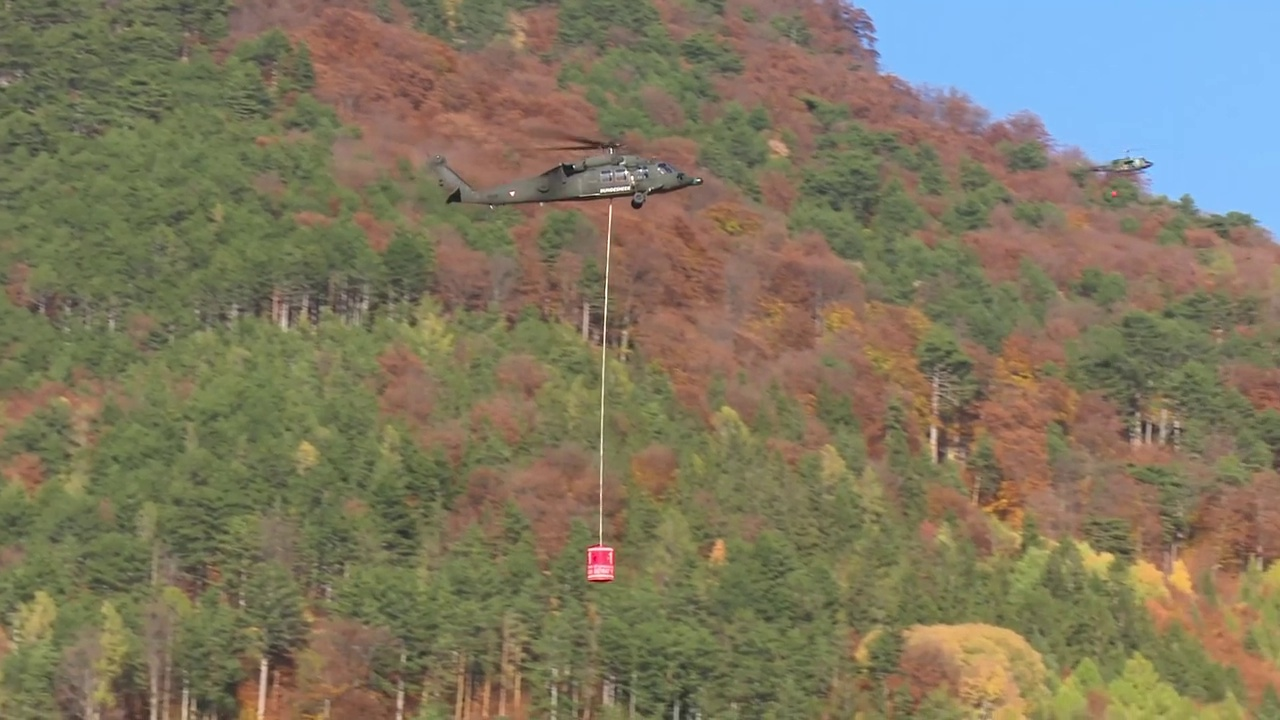heli: (433, 134, 705, 207), (1076, 147, 1152, 176)
